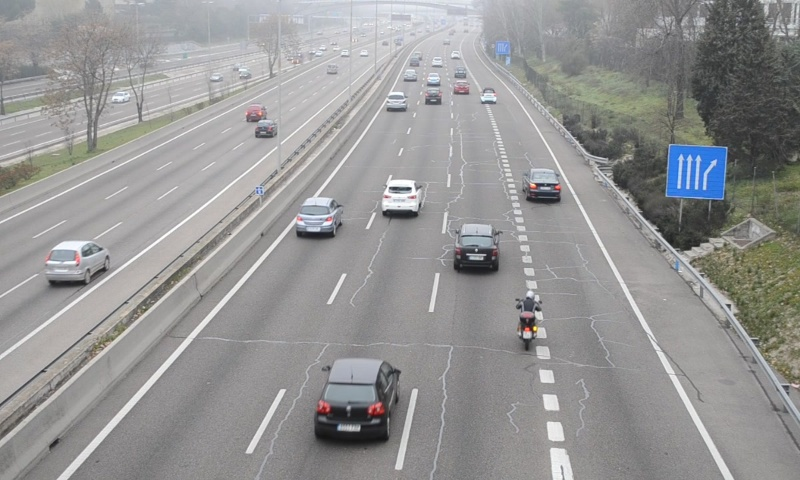car: (315, 358, 399, 441), (453, 223, 498, 269), (295, 196, 342, 232), (382, 179, 421, 215), (523, 168, 560, 201), (386, 91, 408, 112), (425, 87, 442, 105), (480, 86, 496, 104), (453, 80, 470, 95)
motorcycle: (514, 292, 544, 350)
